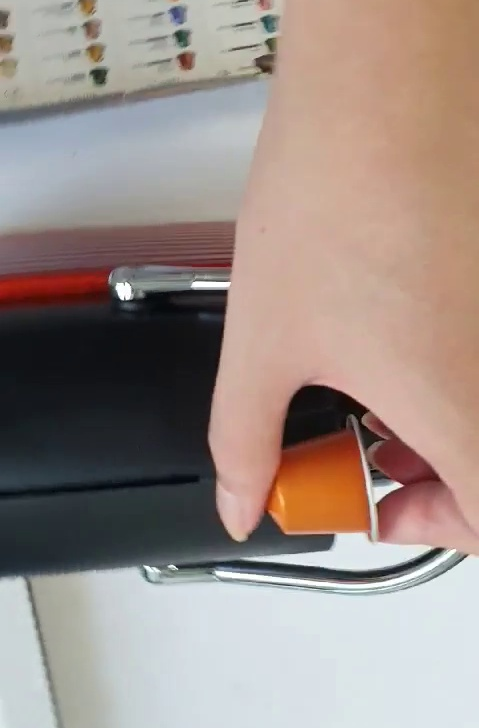capsule_5: (247, 415, 382, 546)
